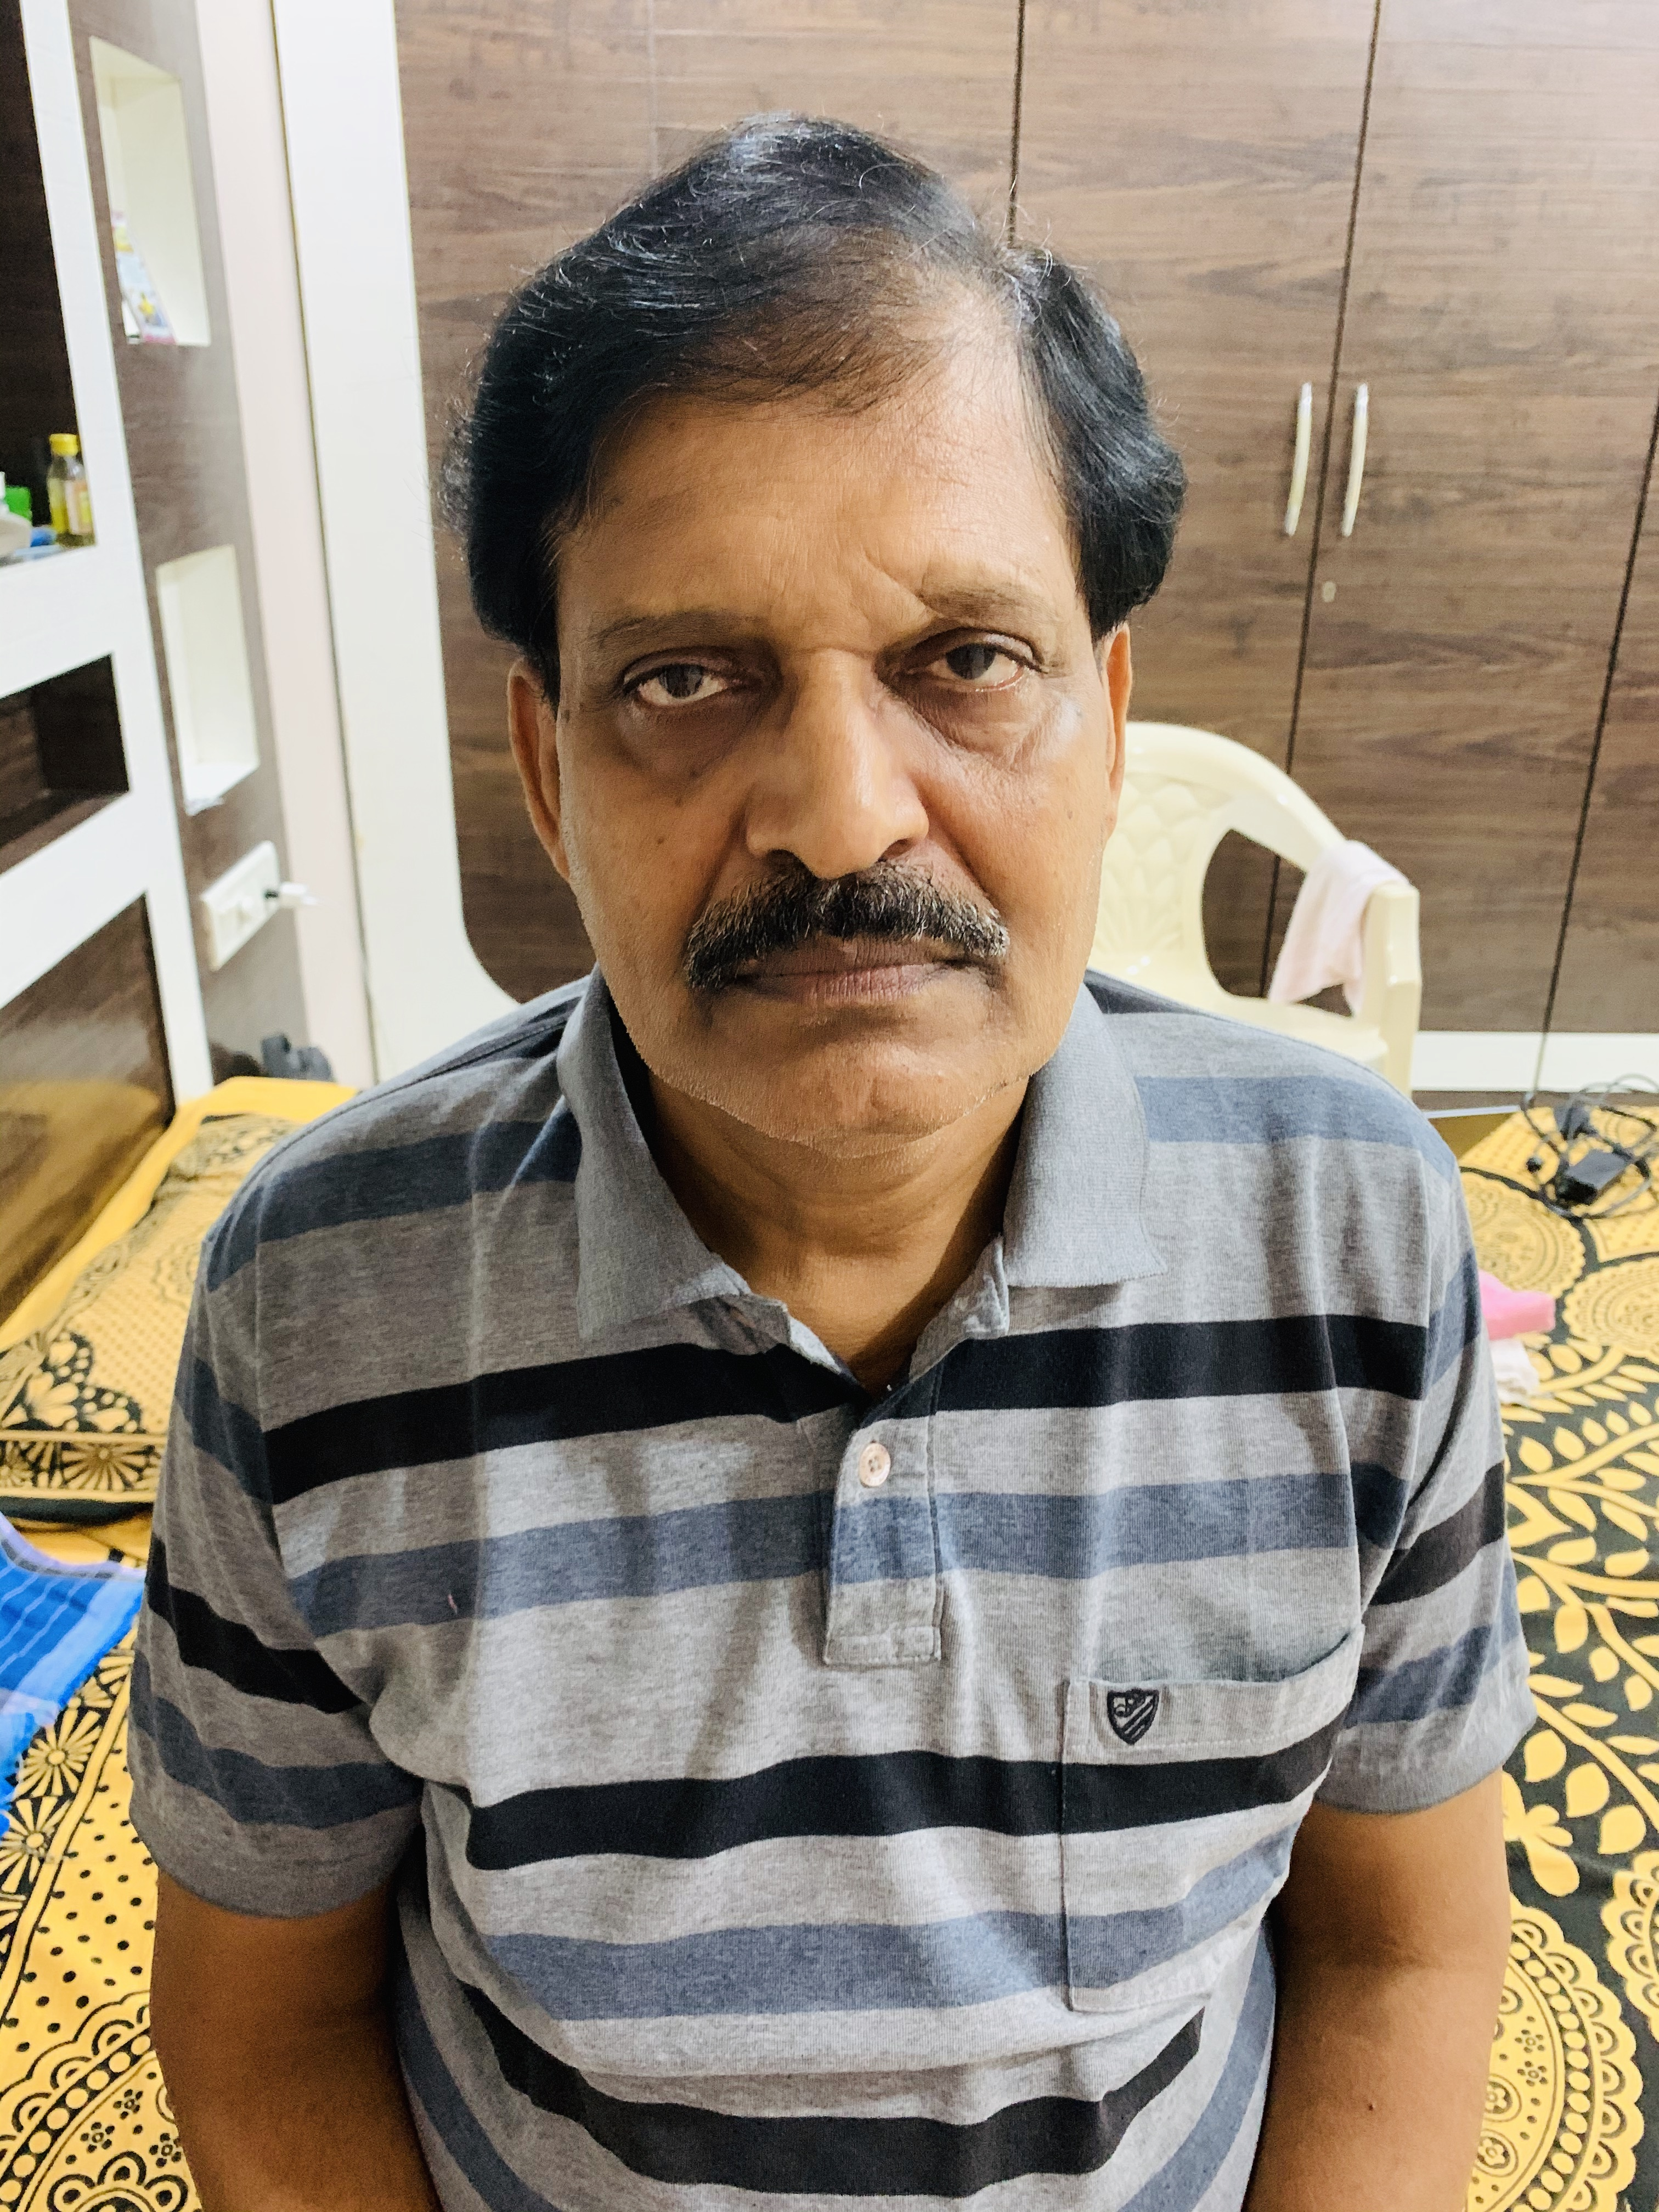Not Sleeping: (589, 594, 1070, 756)
